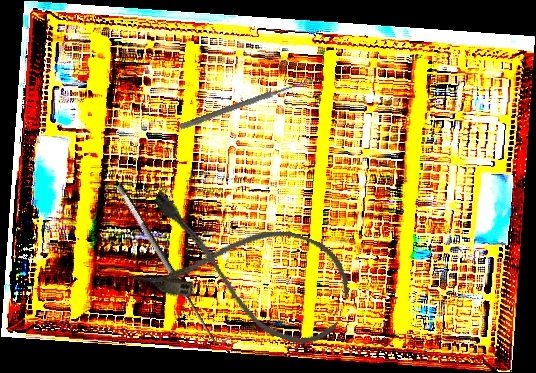Cannula: (125, 184, 362, 355)
Hook Surgical: (113, 175, 233, 352)
Surgical Spoon: (179, 76, 314, 131)
